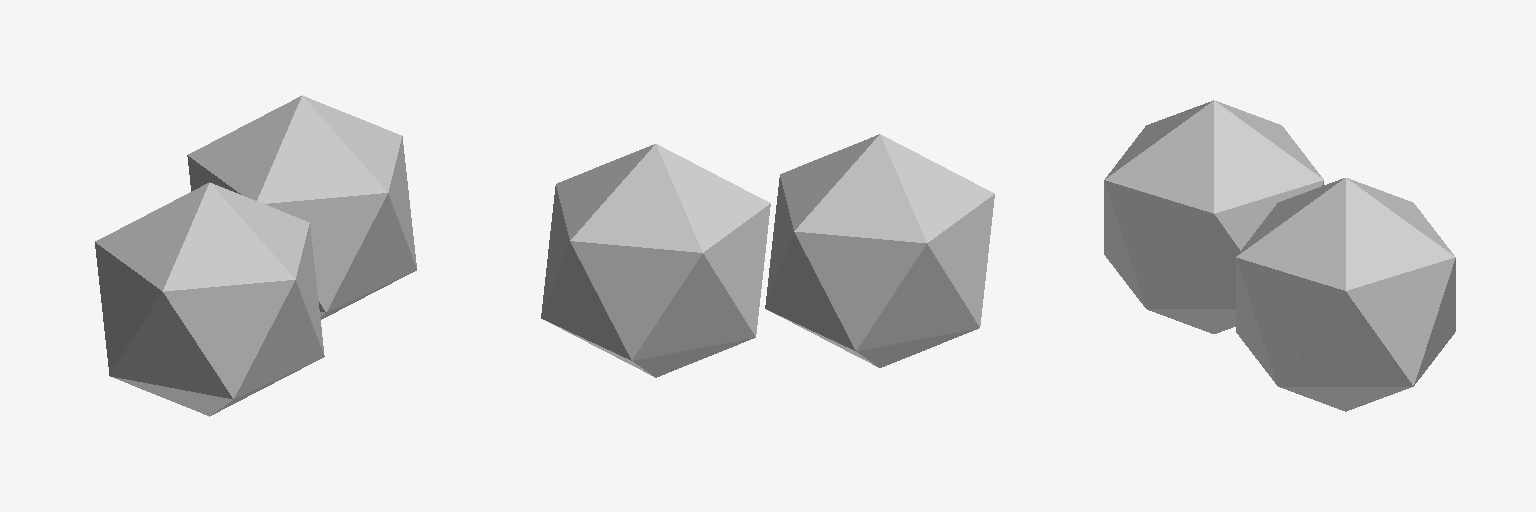
Rendered from eyalSpheres1_closeButNotIntersect.obj.
The picture shows the model from 3 angles: view 1: azimuth 30°, elevation 25°; view 2: azimuth 150°, elevation 25°; view 3: azimuth 270°, elevation 25°; orthographic projection.
Visible parts, largest first — view 1: Icosphere.003, Icosphere.002; view 2: Icosphere.002, Icosphere.003; view 3: Icosphere.002, Icosphere.003.
Part boxes in pixels (left/top/right/bottom): Icosphere.003: left=95, top=182, right=324, bottom=416; Icosphere.002: left=187, top=95, right=416, bottom=319; Icosphere.002: left=541, top=144, right=770, bottom=377; Icosphere.003: left=765, top=134, right=994, bottom=367; Icosphere.002: left=1236, top=178, right=1455, bottom=411; Icosphere.003: left=1104, top=100, right=1323, bottom=333.
Bounding box in the file's own units: 0.9608 × 0.6 × 0.8157.